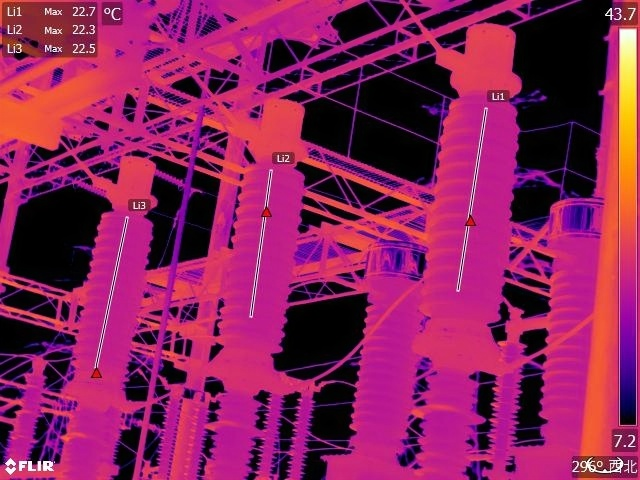circuit breaker: (391, 13, 537, 480), (194, 87, 317, 480), (51, 138, 169, 480)
current transformer: (322, 241, 429, 480), (533, 193, 607, 480)
post insulator: (484, 337, 533, 480), (2, 354, 51, 480), (285, 394, 317, 480), (255, 394, 285, 480), (153, 397, 182, 480), (185, 397, 213, 480)
switch: (500, 305, 551, 347)
